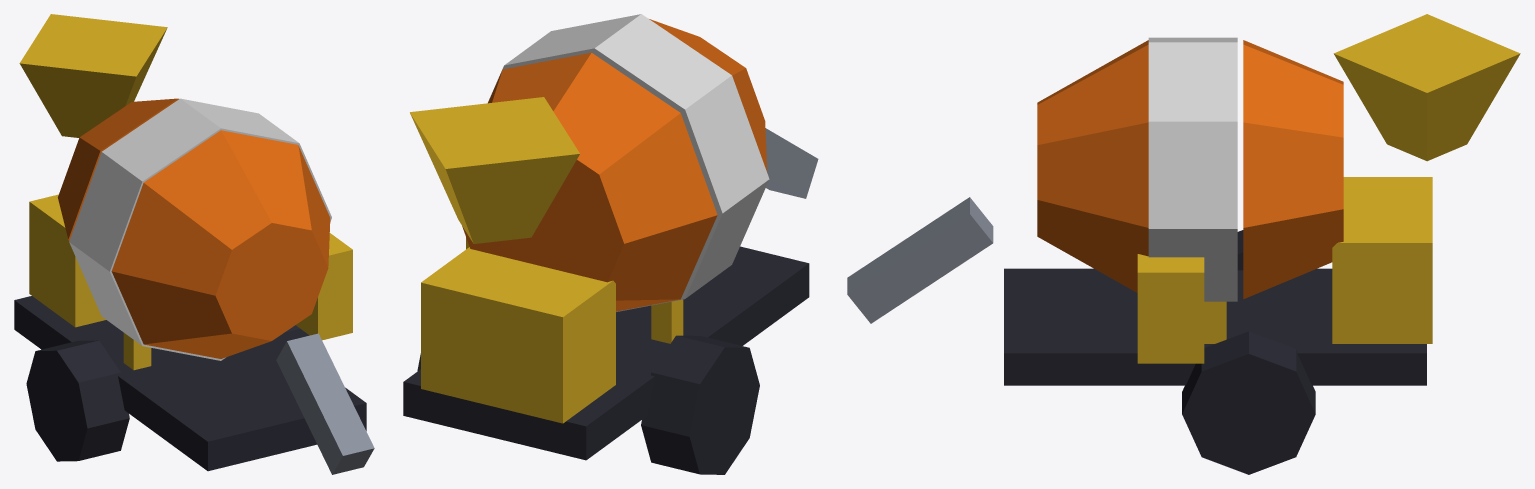
The model's file is machine-mixer-lod1.58c8328b.glb.
3 views of the same model, side by side, from view 1: azimuth 30°, elevation 25°; view 2: azimuth 150°, elevation 25°; view 3: azimuth 270°, elevation 25° (orthographic). The views are drawn at different scales.
Parts seen in each view (by area): view 1: Mixer_LOD1__T_vcol; view 2: Mixer_LOD1__T_vcol; view 3: Mixer_LOD1__T_vcol.
Boxes of the visible parts, bbox=[...] form: Mixer_LOD1__T_vcol: bbox=[14, 14, 374, 474]; Mixer_LOD1__T_vcol: bbox=[403, 14, 818, 474]; Mixer_LOD1__T_vcol: bbox=[847, 14, 1520, 474].
Size of the model in its own units: 1.39 by 1.83 by 3.02.
